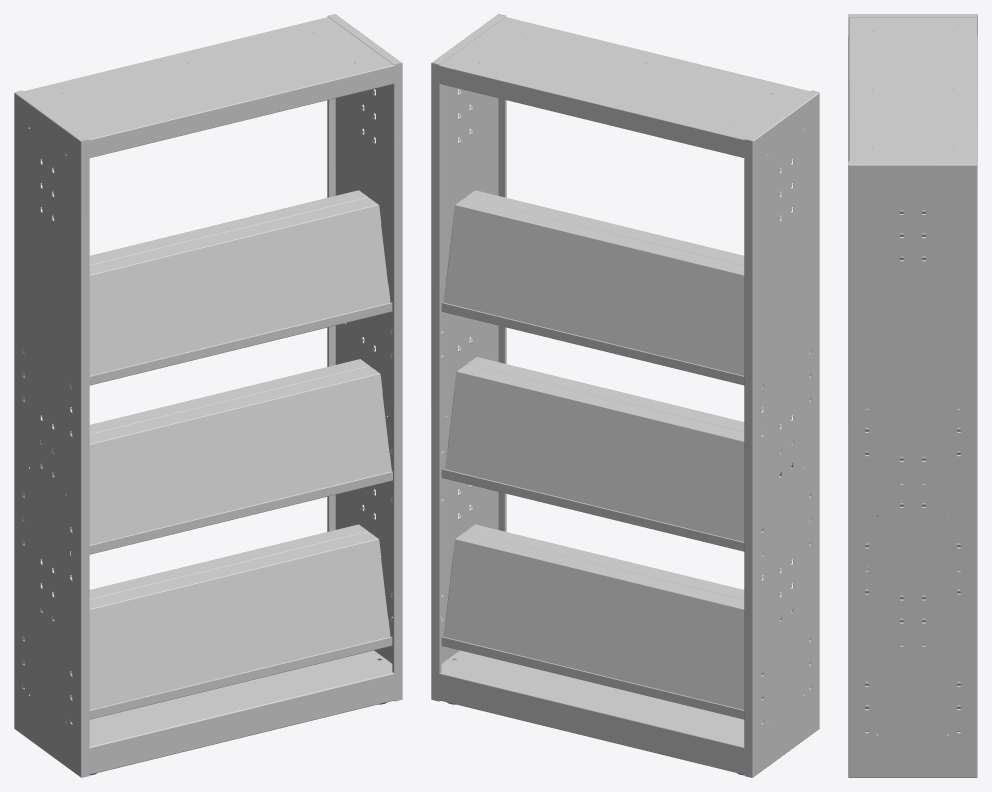
3 renders of one model, left to right at view 1: azimuth 30°, elevation 25°; view 2: azimuth 150°, elevation 25°; view 3: azimuth 270°, elevation 25°, orthographic. The views are drawn at different scales.
Parts seen in each view (by area): view 1: 0dd2ad6b-cb95-4436-8aa8-2e71dc4fc6ad, 6a026cec-0097-4c87-8bdd-deb08d836e16; view 2: 0dd2ad6b-cb95-4436-8aa8-2e71dc4fc6ad, 6a026cec-0097-4c87-8bdd-deb08d836e16; view 3: 6a026cec-0097-4c87-8bdd-deb08d836e16.
Boxes of the visible parts, x1,y1,x2,y2 form: 0dd2ad6b-cb95-4436-8aa8-2e71dc4fc6ad: (23, 190, 392, 722); 6a026cec-0097-4c87-8bdd-deb08d836e16: (14, 14, 402, 777); 0dd2ad6b-cb95-4436-8aa8-2e71dc4fc6ad: (441, 190, 810, 722); 6a026cec-0097-4c87-8bdd-deb08d836e16: (431, 14, 819, 777); 6a026cec-0097-4c87-8bdd-deb08d836e16: (848, 14, 977, 777).
Size of the model in its own units: 0.8993 by 1.71 by 0.3245.
2 materials, 1 textured.
